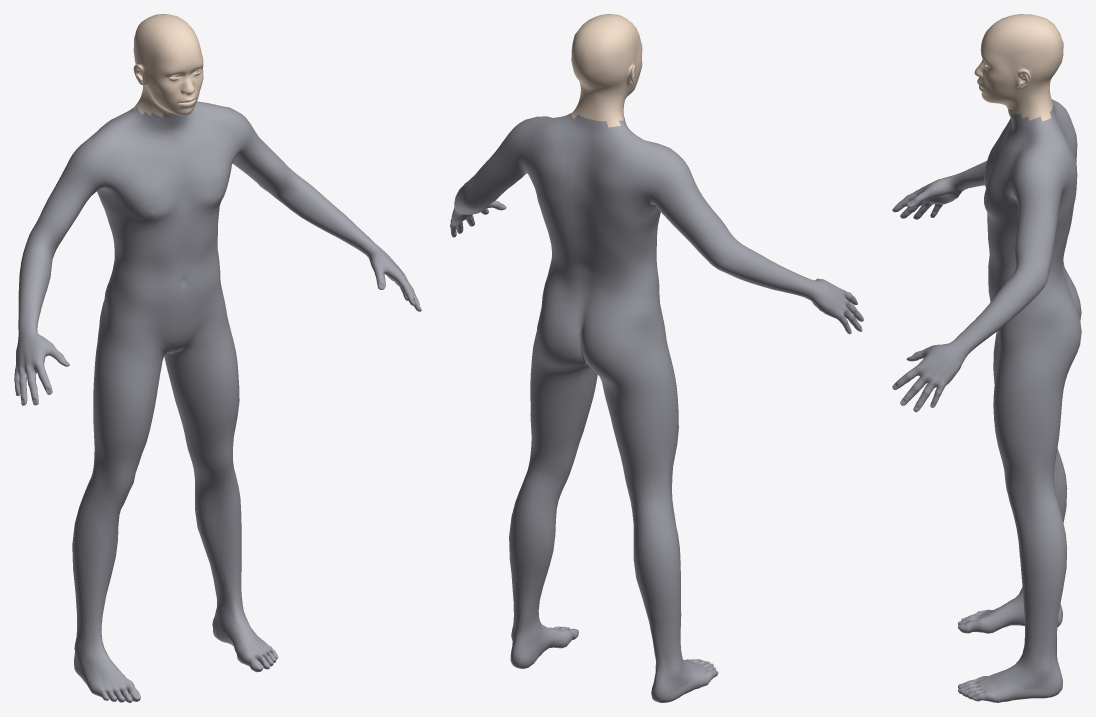
Rendered from metahuman_player.glb.
3 renders of one model, left to right at view 1: azimuth 30°, elevation 25°; view 2: azimuth 150°, elevation 25°; view 3: azimuth 270°, elevation 25°, orthographic.
Visible parts, largest first — view 1: Human; view 2: Human; view 3: Human.
Part boxes in pixels (x1,y1,x2,y2): Human: (14, 14, 421, 702); Human: (450, 14, 863, 702); Human: (892, 14, 1081, 702).
Bounding box in the file's own units: 1.19 × 1.84 × 0.4896.
